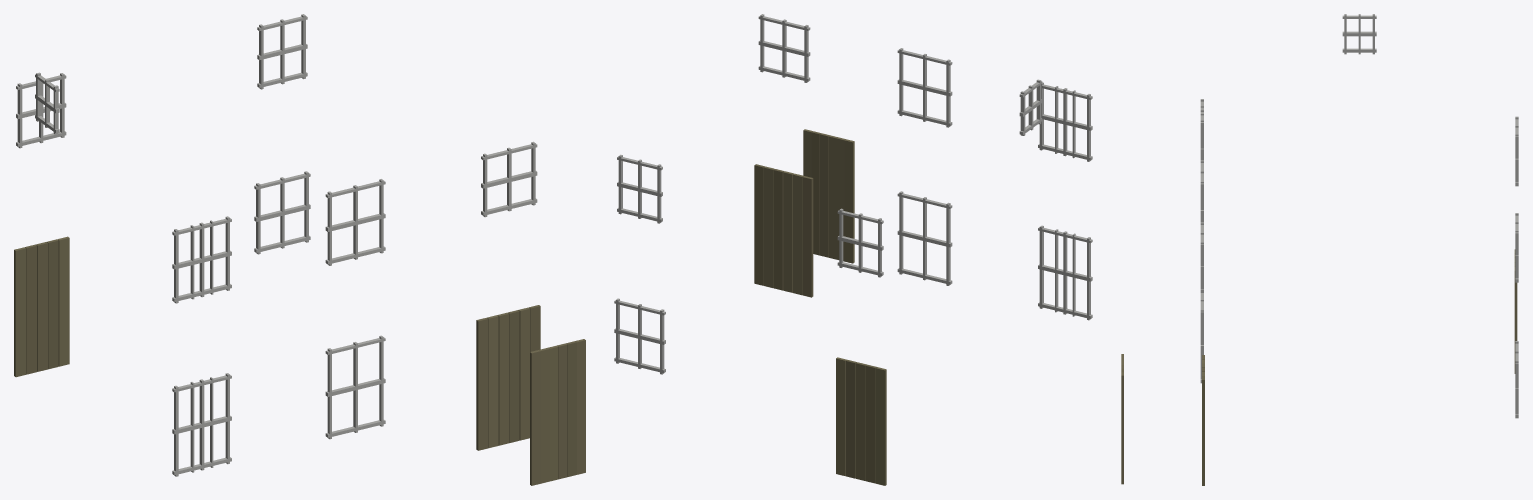
The model's file is SM_Bld_067_Wood.glb.
The picture shows the model from 3 angles, left to right: view 1: azimuth 30°, elevation 25°; view 2: azimuth 150°, elevation 25°; view 3: azimuth 270°, elevation 25°; orthographic projection. The views are drawn at different scales.
Parts seen in each view (by area): view 1: SM_Bld_067_Wood; view 2: SM_Bld_067_Wood; view 3: SM_Bld_067_Wood.
Boxes of the visible parts, x1,y1,x2,y2 form: SM_Bld_067_Wood: [14, 14, 585, 485]; SM_Bld_067_Wood: [614, 14, 1092, 485]; SM_Bld_067_Wood: [1121, 14, 1518, 485].
Bounding box in the file's own units: 6.61 × 6.05 × 6.97.
